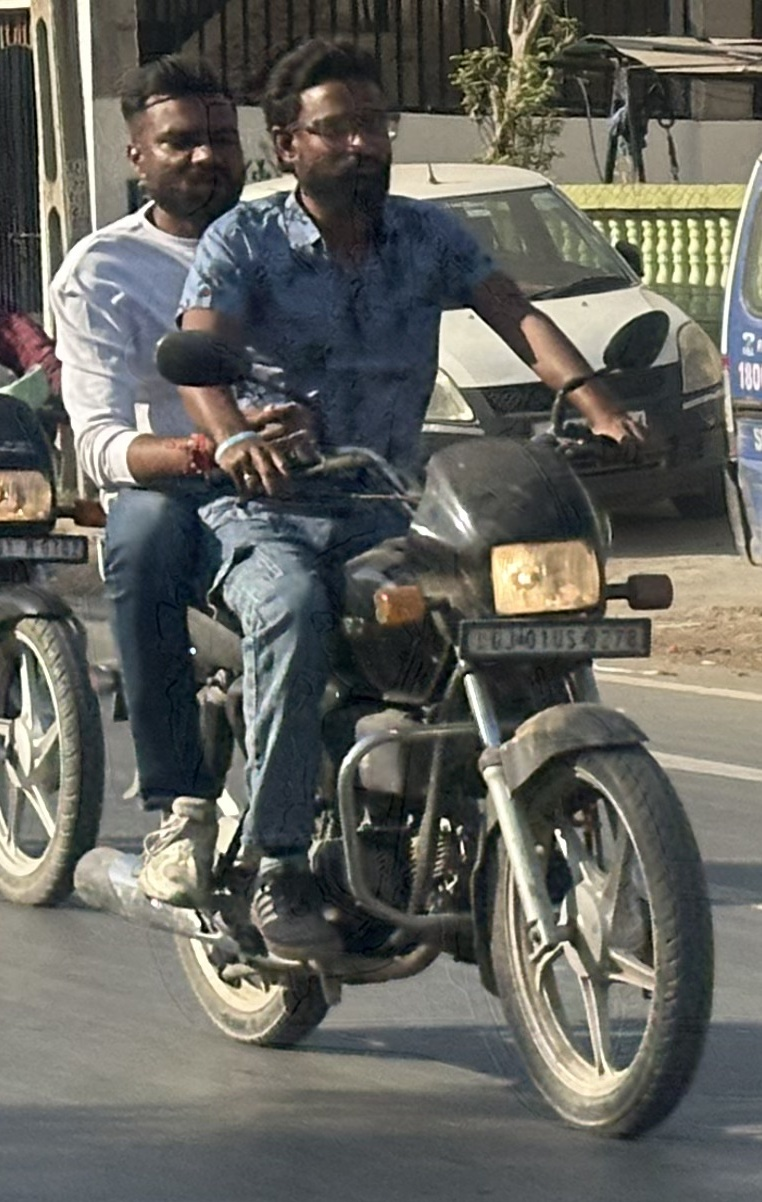BikeWithRider: (49, 40, 730, 1147)
NoHelmet: (271, 44, 411, 215), (122, 52, 251, 237)
